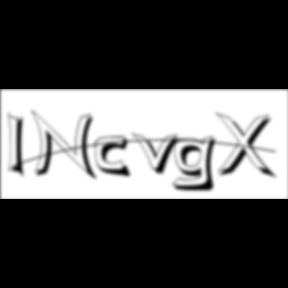I: (8, 110, 32, 182)
N: (31, 109, 101, 183)
X: (215, 112, 279, 182)
c: (95, 136, 135, 180)
g: (172, 134, 224, 194)
v: (132, 131, 186, 177)
